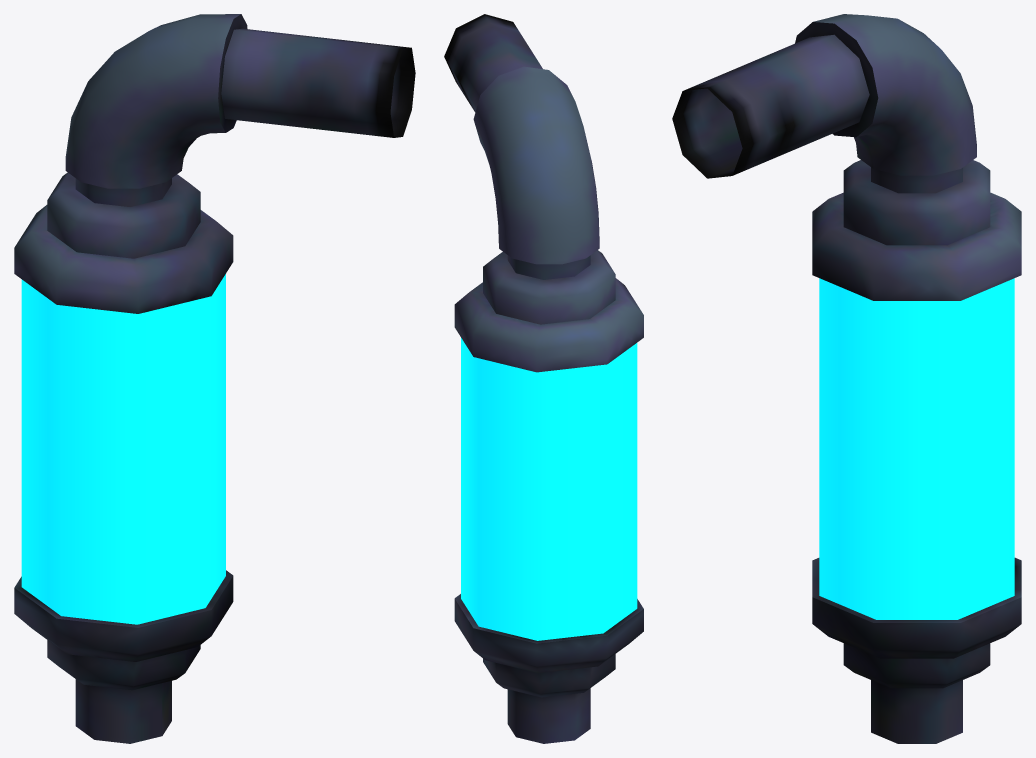
File: finalBoss-reactors2.glb
3 renders of one model, left to right at view 1: azimuth 30°, elevation 25°; view 2: azimuth 150°, elevation 25°; view 3: azimuth 270°, elevation 25°, orthographic. The views are drawn at different scales.
Visible parts, largest first — view 1: finalBoss-reactors2; view 2: finalBoss-reactors2; view 3: finalBoss-reactors2.
Part boxes in pixels (x1=…): finalBoss-reactors2: x1=14, y1=14, x2=415, y2=743; finalBoss-reactors2: x1=444, y1=14, x2=643, y2=743; finalBoss-reactors2: x1=672, y1=14, x2=1021, y2=743.
Size of the model in its own units: 0.6994 by 1.62 by 0.6994.
Materials: 2 (1 with a texture image).
